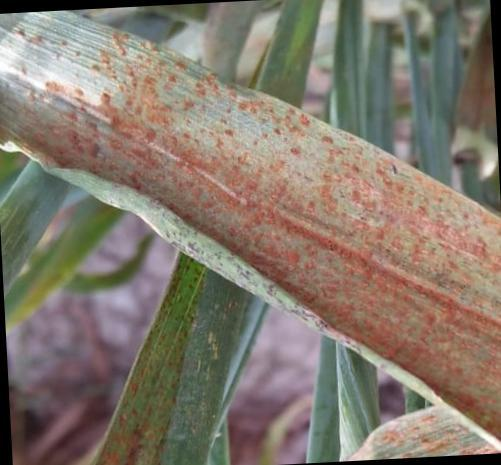Wheat: (64, 142, 440, 379), (17, 44, 146, 137), (446, 211, 500, 393)
